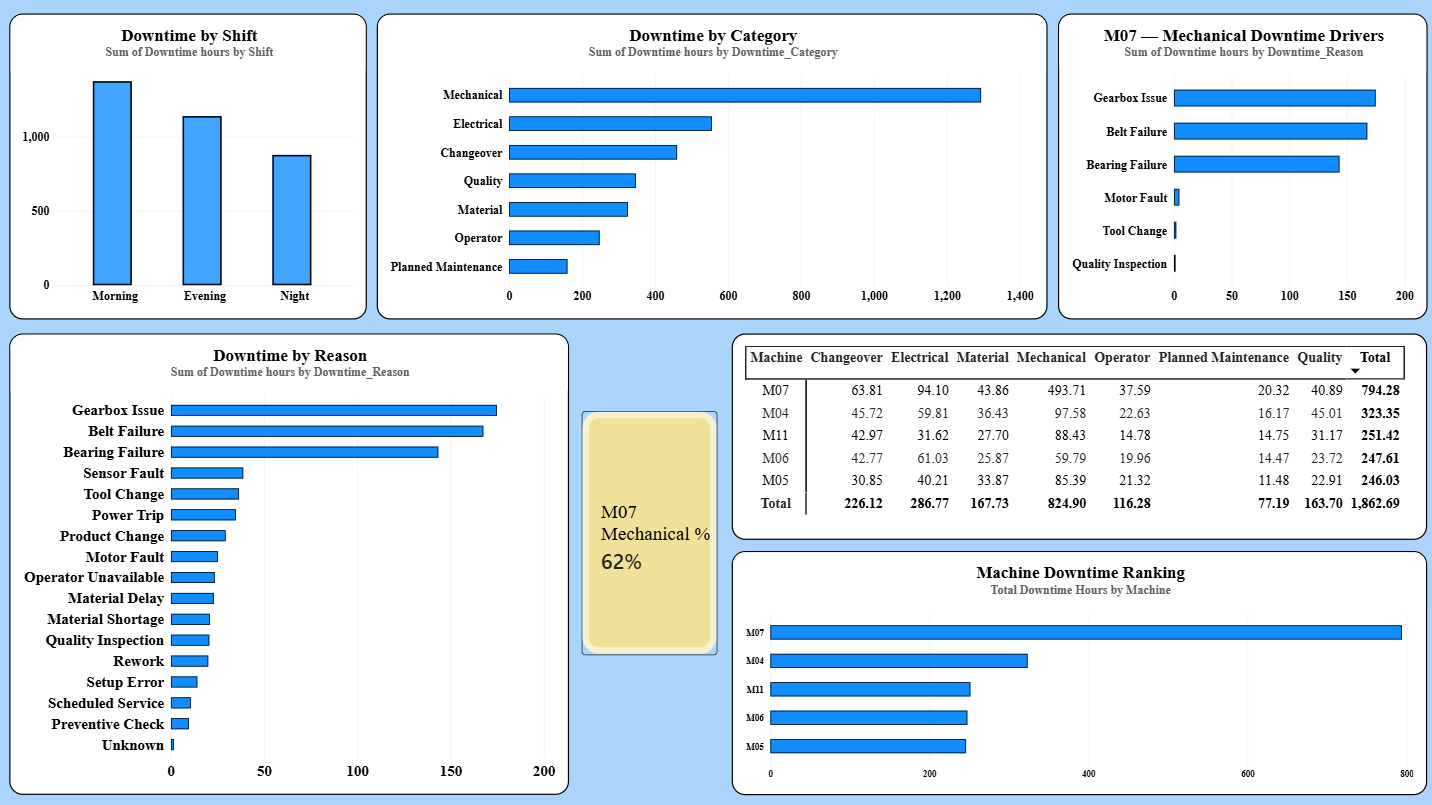

The page's visual inventory and layout, read from the dashboard file:
{"tool":"powerbi","page":{"name":"Downtime & Root Cause","canvas":[1920,1080],"ordinal":1},"visuals":[{"type":"barChart","title":"Downtime by Category","fields":{"Category":["Downtime cleaned.Downtime_Category"],"Y":["Sum(Downtime cleaned.Downtime hours)"]},"box":[505.3,23.6,894,407.7],"z":0},{"type":"barChart","title":"Machine Downtime Ranking","fields":{"Category":["Machine Master cleaned.Machine"],"Y":["Downtime cleaned.Total Downtime Hours"]},"box":[979,739.8,927.1,325.8],"z":2000},{"type":"columnChart","title":"Downtime by Shift","fields":{"Category":["Downtime cleaned.Shift"],"Y":["Sum(Downtime cleaned.Downtime hours)"]},"box":[15.7,23.6,476.9,407.7],"z":3000},{"type":"pivotTable","fields":{"Columns":["Downtime cleaned.Downtime_Category"],"Rows":["Machine Master cleaned.Machine"],"Values":["Sum(Downtime cleaned.Downtime hours)"]},"box":[979,450.2,927.1,275.5],"z":4000},{"type":"barChart","title":"Downtime by Reason","fields":{"Category":["Downtime cleaned.Downtime_Reason"],"Y":["Sum(Downtime cleaned.Downtime hours)"]},"box":[15.7,450.2,746.1,615.4],"z":5000},{"type":"cardVisual","fields":{"Data":["Downtime cleaned.M07 Mechanical %"]},"box":[779.1,554.1,181,325.8],"z":6000},{"type":"clusteredBarChart","title":"M07 — Mechanical Downtime Drivers","fields":{"Category":["Downtime cleaned.Downtime_Reason"],"Y":["Sum(Downtime cleaned.Downtime hours)"]},"box":[1413.5,23.6,492.7,407.7],"z":7000}]}

Visuals, with their boxes in screenshot pixels (x1, y1, x2, y2), scaled from the page's 1920x1080 canvas onto the 1432x805 screenshot:
"Downtime by Category" barChart: x1=377, y1=18, x2=1044, y2=321
"Machine Downtime Ranking" barChart: x1=730, y1=551, x2=1422, y2=794
"Downtime by Shift" columnChart: x1=12, y1=18, x2=367, y2=321
pivotTable - Downtime cleaned.Downtime_Category x Machine Master cleaned.Machine: x1=730, y1=336, x2=1422, y2=541
"Downtime by Reason" barChart: x1=12, y1=336, x2=568, y2=794
cardVisual - Downtime cleaned.M07 Mechanical %: x1=581, y1=413, x2=716, y2=656
"M07 — Mechanical Downtime Drivers" clusteredBarChart: x1=1054, y1=18, x2=1422, y2=321
